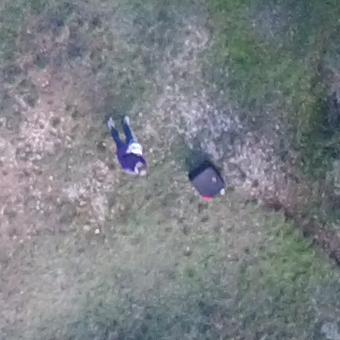human: (106, 113, 151, 178)
